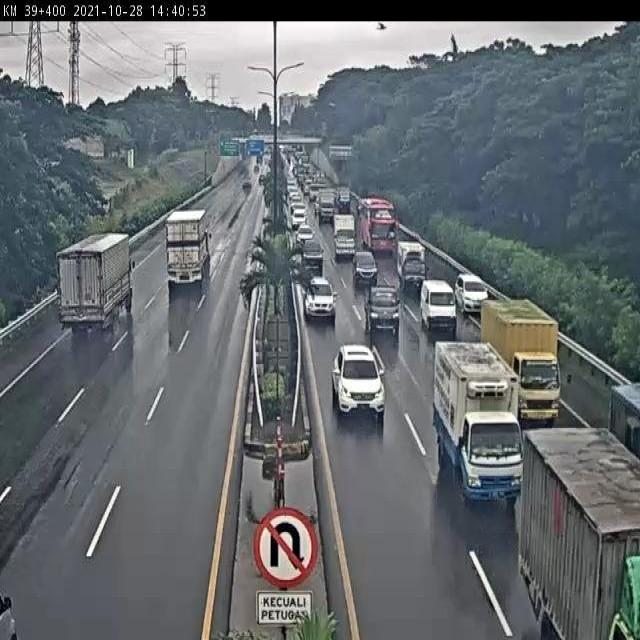big truck: (163, 209, 214, 288)
car: (330, 343, 387, 420), (418, 277, 461, 336), (362, 283, 402, 332), (452, 271, 492, 313), (304, 275, 338, 324), (351, 250, 380, 286)
truck-m-: (433, 341, 524, 511), (477, 296, 562, 429), (58, 232, 134, 331)
truck-s-: (396, 237, 429, 291)
